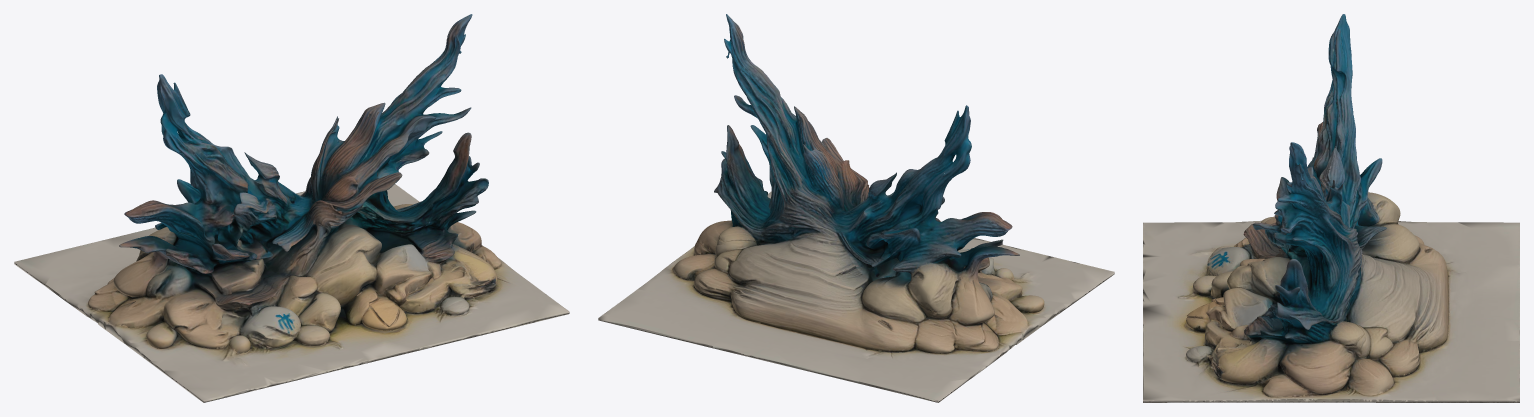
The model's file is nature8-v3.glb.
The picture shows the model from 3 angles, left to right: view 1: azimuth 30°, elevation 25°; view 2: azimuth 150°, elevation 25°; view 3: azimuth 270°, elevation 25°; orthographic projection. The views are drawn at different scales.
Visible parts, largest first — view 1: tripo_node_541b8797-0e82-40d1-84c2-f3eb929cff50; view 2: tripo_node_541b8797-0e82-40d1-84c2-f3eb929cff50; view 3: tripo_node_541b8797-0e82-40d1-84c2-f3eb929cff50.
Part boxes in pixels (bbox=[...]): tripo_node_541b8797-0e82-40d1-84c2-f3eb929cff50: bbox=[14, 14, 569, 402]; tripo_node_541b8797-0e82-40d1-84c2-f3eb929cff50: bbox=[598, 14, 1114, 402]; tripo_node_541b8797-0e82-40d1-84c2-f3eb929cff50: bbox=[1143, 14, 1519, 402].
Size of the model in its own units: 1 by 0.6556 by 0.897.
1 material, 1 textured.
